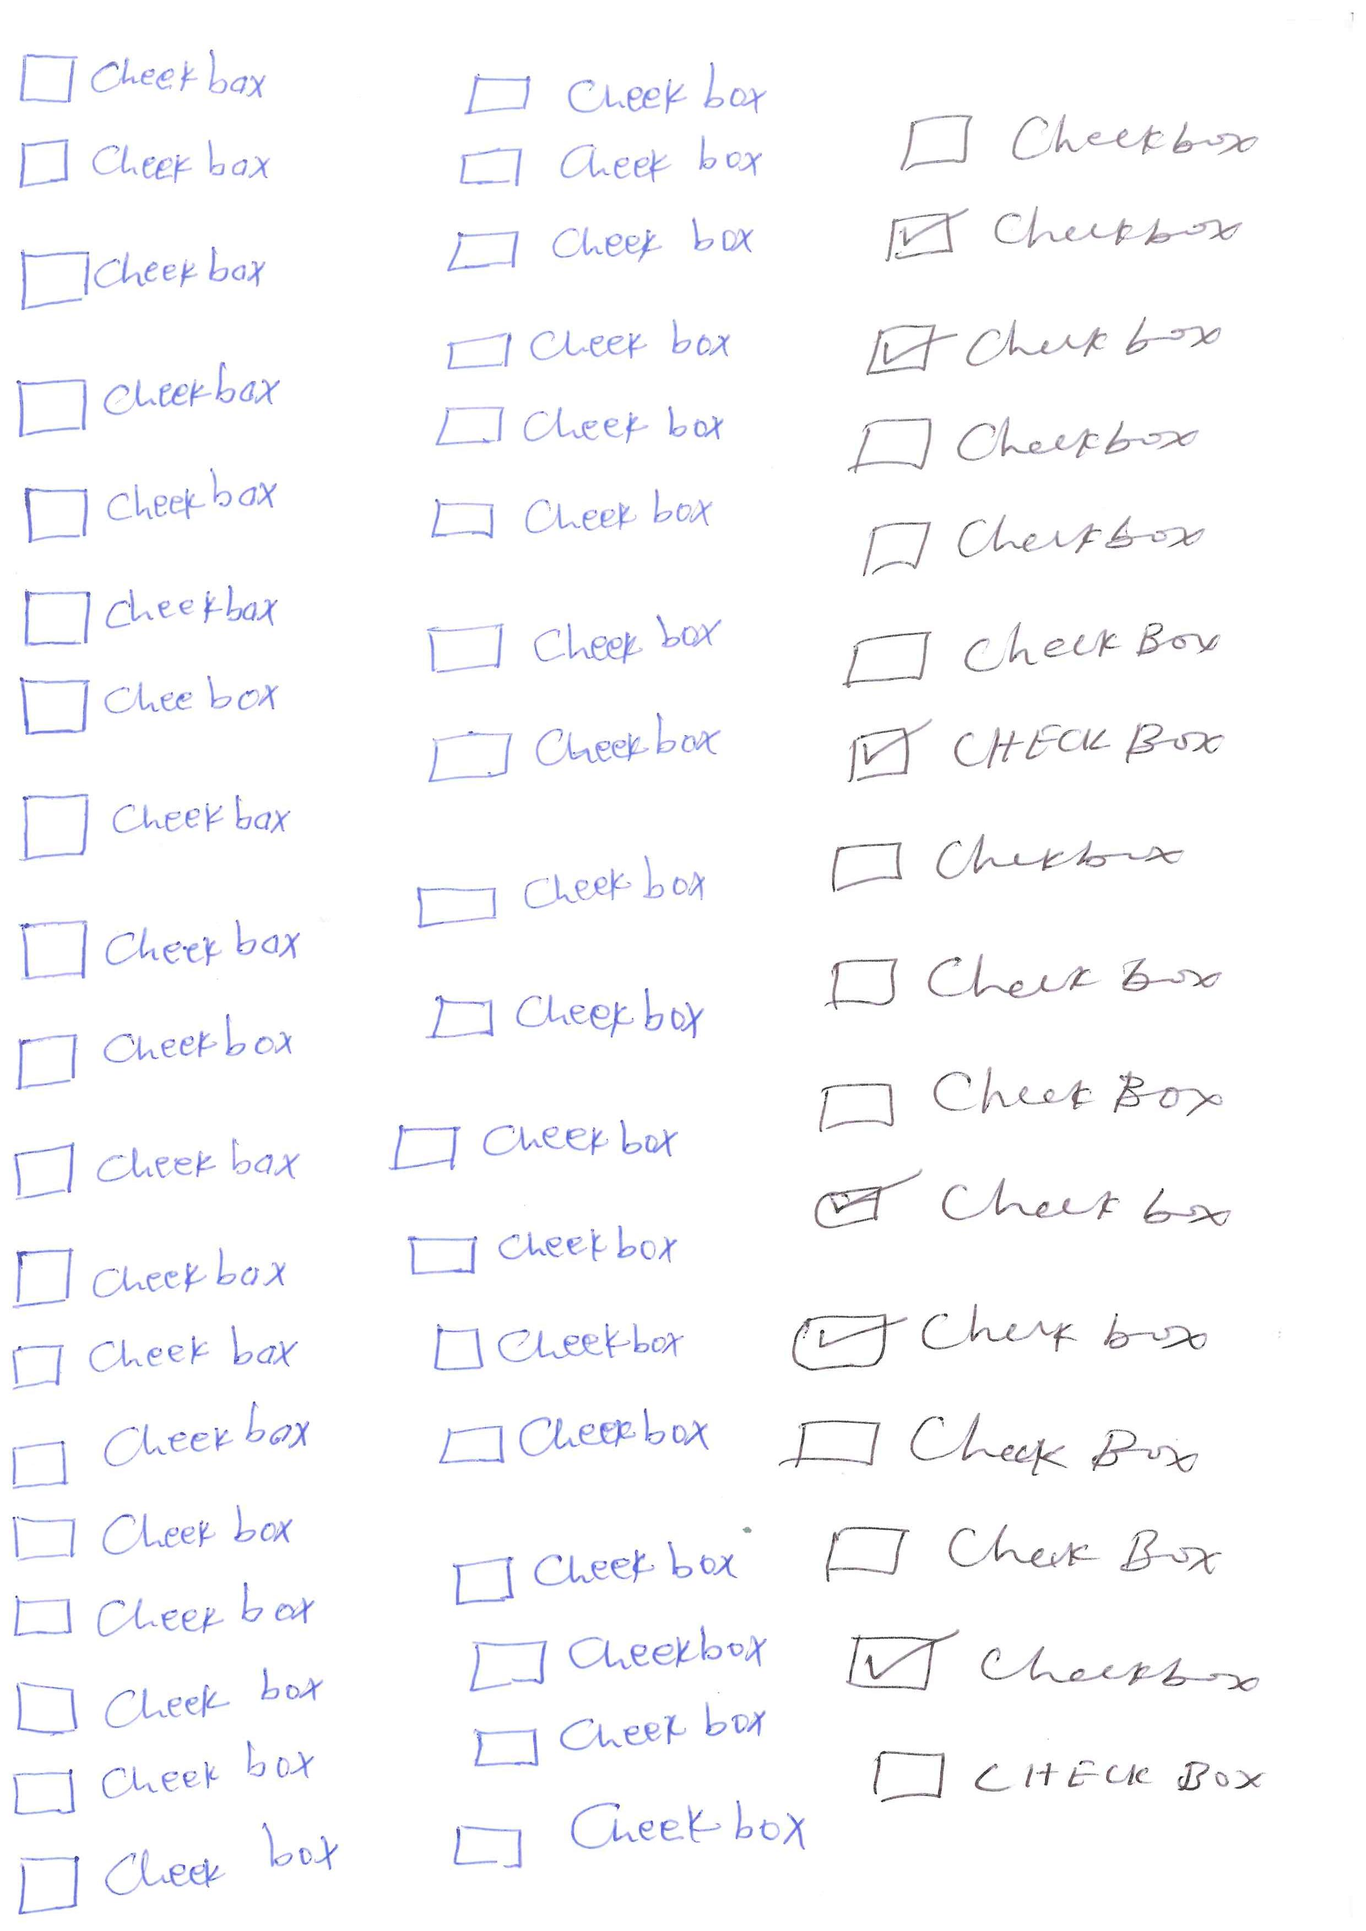Check Box: (843, 1618, 1263, 1702), (786, 1408, 1199, 1486), (841, 611, 1224, 690), (809, 1167, 1237, 1236), (816, 1065, 1231, 1134), (844, 711, 1221, 787), (786, 1306, 1209, 1372), (881, 197, 1242, 272), (16, 1836, 337, 1919), (857, 509, 1211, 581), (822, 1518, 1221, 1582), (826, 827, 1187, 895), (451, 1796, 807, 1864), (820, 949, 1227, 1008), (847, 407, 1200, 475), (871, 1746, 1267, 1807), (10, 1414, 309, 1490), (896, 109, 1264, 172), (862, 316, 1226, 379), (16, 912, 306, 988), (414, 859, 711, 931), (472, 1703, 772, 1774), (463, 1622, 767, 1691), (21, 787, 293, 863), (13, 1022, 299, 1093), (19, 574, 281, 651), (19, 469, 282, 544), (10, 1752, 321, 1816), (429, 719, 717, 787), (7, 1136, 305, 1201), (421, 612, 724, 676), (12, 1239, 288, 1309), (461, 62, 767, 124), (12, 1677, 330, 1736), (13, 241, 269, 313), (16, 370, 281, 439), (442, 219, 758, 276), (389, 1112, 676, 1175), (441, 316, 732, 377), (426, 486, 717, 547), (12, 671, 281, 736), (421, 988, 707, 1048), (16, 46, 269, 114), (10, 1586, 316, 1643), (454, 1547, 738, 1606), (7, 1507, 297, 1564), (9, 1334, 296, 1391), (457, 138, 764, 191), (402, 1221, 682, 1279), (435, 398, 729, 452), (13, 135, 273, 194), (442, 1412, 711, 1467), (429, 1317, 684, 1374)
